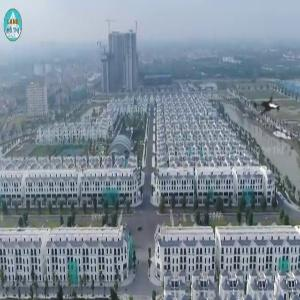drone: (236, 78, 299, 141)
